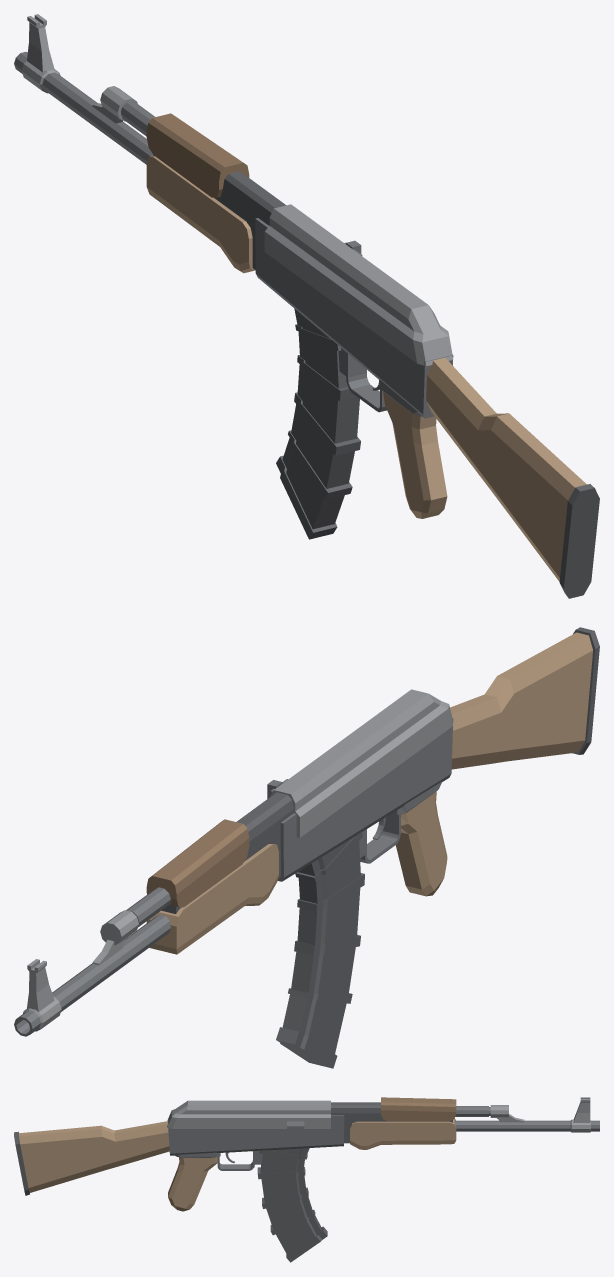
The picture shows the model from 3 angles, top to bottom: view 1: azimuth 30°, elevation 25°; view 2: azimuth 150°, elevation 25°; view 3: azimuth 270°, elevation 25°; orthographic projection. The views are drawn at different scales.
Parts seen in each view (by area): view 1: body, mag; view 2: body, mag; view 3: body, mag, charge.
Part boxes in pixels (left/top/right/bottom): body: left=14, top=14, right=599, bottom=598; mag: left=276, top=309, right=360, bottom=539; body: left=14, top=627, right=599, bottom=1036; mag: left=276, top=832, right=364, bottom=1068; body: left=14, top=1097, right=599, bottom=1211; mag: left=257, top=1148, right=327, bottom=1262; charge: left=287, top=1121, right=304, bottom=1136.
Size of the model in its own units: 0.0553 by 0.2663 by 0.8783.
